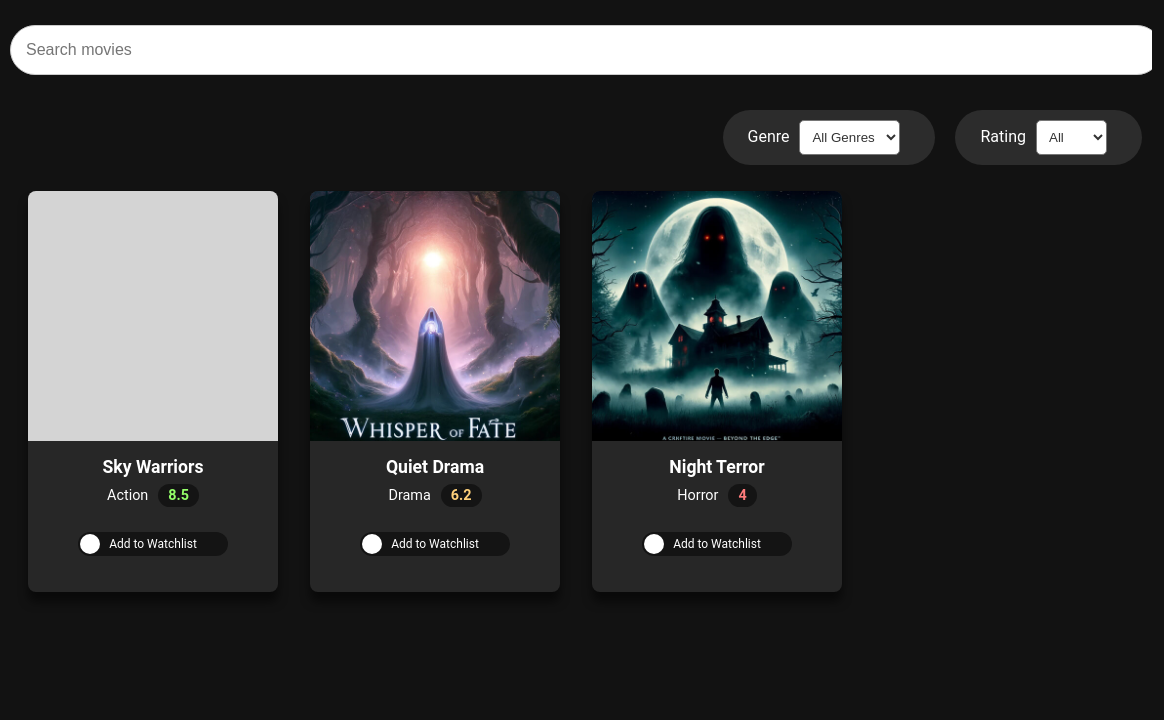
Test: filters the catalog by genre
The width and height of the screenshot is (1164, 720).
Select "Drama" in the dropdown labelled "Genre" at (850, 138), box x1=800 y1=120 x2=900 y2=155
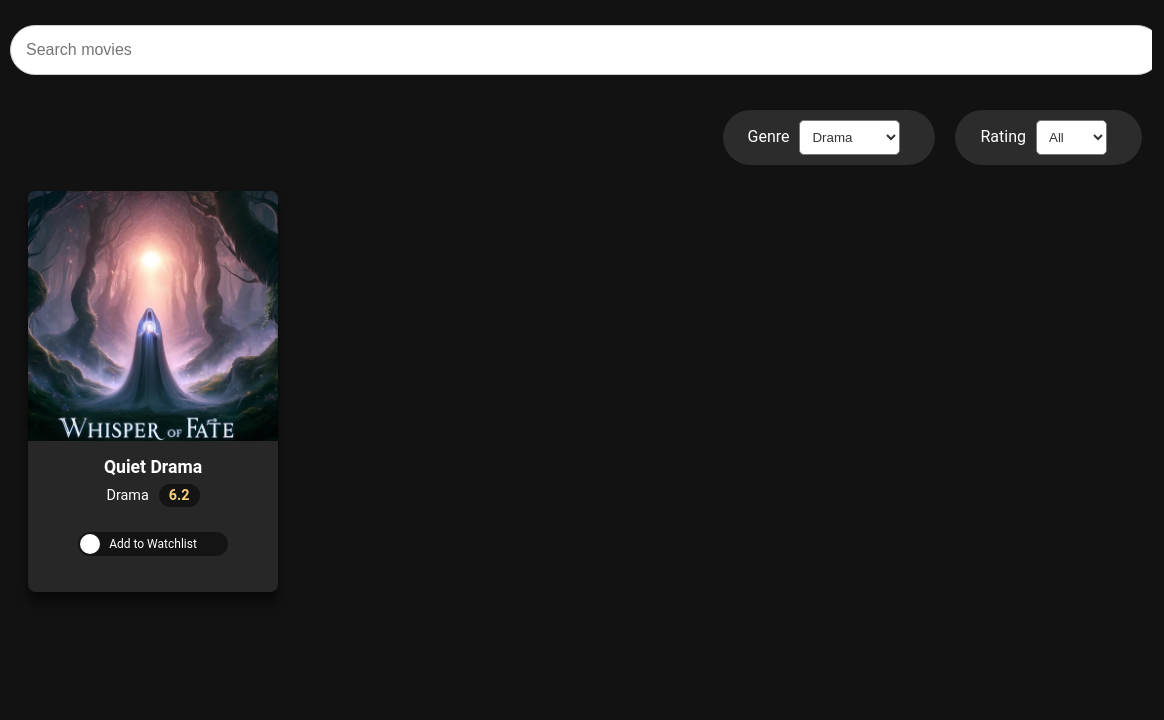
Expected: the heading "Quiet Drama" is shown, x1=104 y1=457 x2=202 y2=477
Expected: the heading "Sky Warriors" is gone
